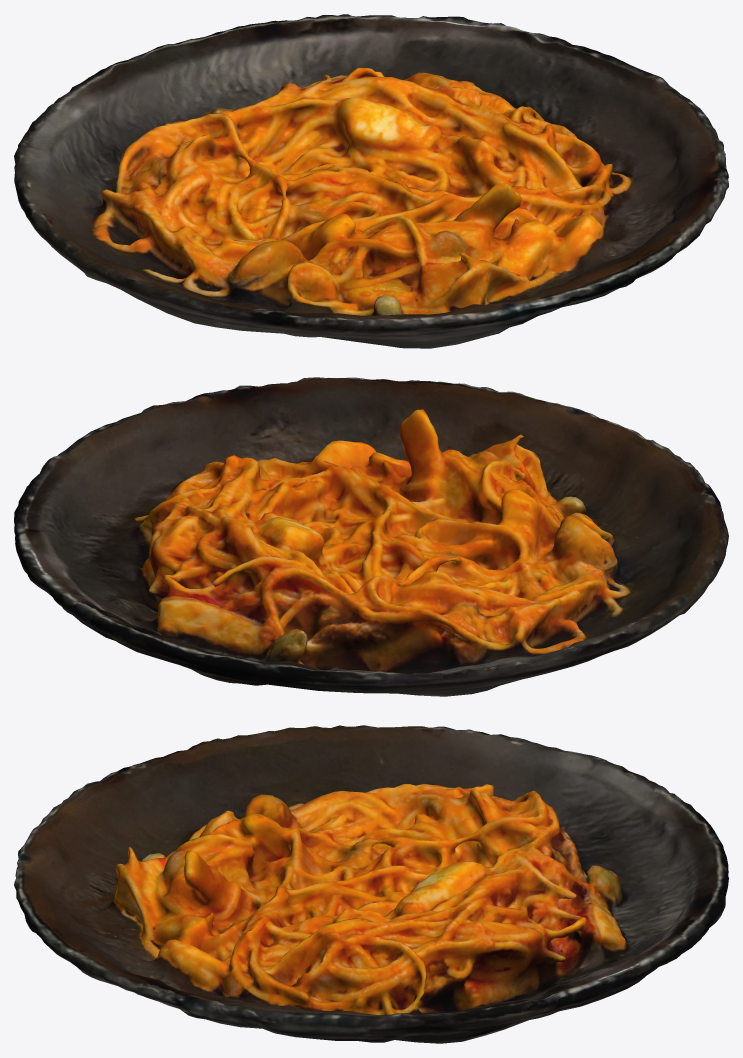
File: Sea Food Pasta.glb
The picture shows the model from 3 angles, top to bottom: view 1: azimuth 30°, elevation 25°; view 2: azimuth 150°, elevation 25°; view 3: azimuth 270°, elevation 25°; orthographic projection.
Parts seen in each view (by area): view 1: ObjectCapture; view 2: ObjectCapture; view 3: ObjectCapture.
Part boxes in pixels (x1,y1,x2,y2): ObjectCapture: (14,14,728,348); ObjectCapture: (14,377,728,696); ObjectCapture: (14,725,728,1043).
Size of the model in its own units: 0.2599 by 0.0611 by 0.2586.
Materials: 1 (1 with a texture image).
